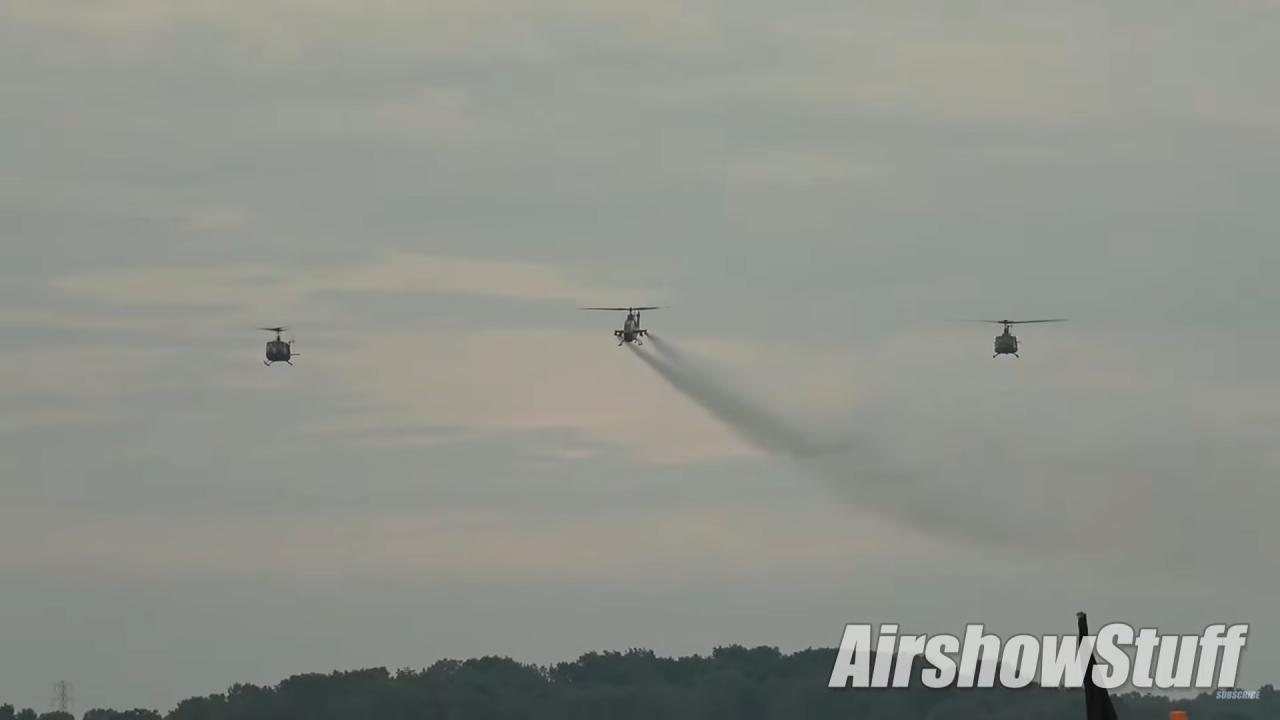Helicopter: (944, 298, 1074, 382), (568, 284, 699, 364), (220, 307, 336, 384)
